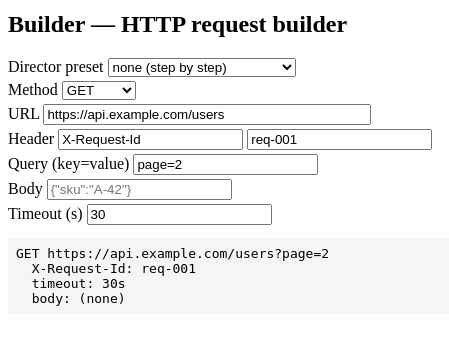
<BuilderDemo /> › starts from a director preset and still applies the extra steps
Step 1. Select "authenticatedGet(url, token)" in the dropdown labelled "Director preset" → (202, 67), box [108, 58, 296, 77]
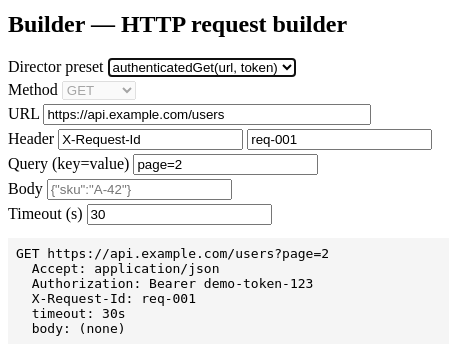
Check: the text "X-Request-Id: req-001" is shown, box [16, 246, 329, 336]
Check: the dropdown labelled "Method" is disabled, box [62, 81, 136, 100]
Check: the text "Authorization: Bearer demo-token-123" is shown, box [16, 246, 329, 336]
